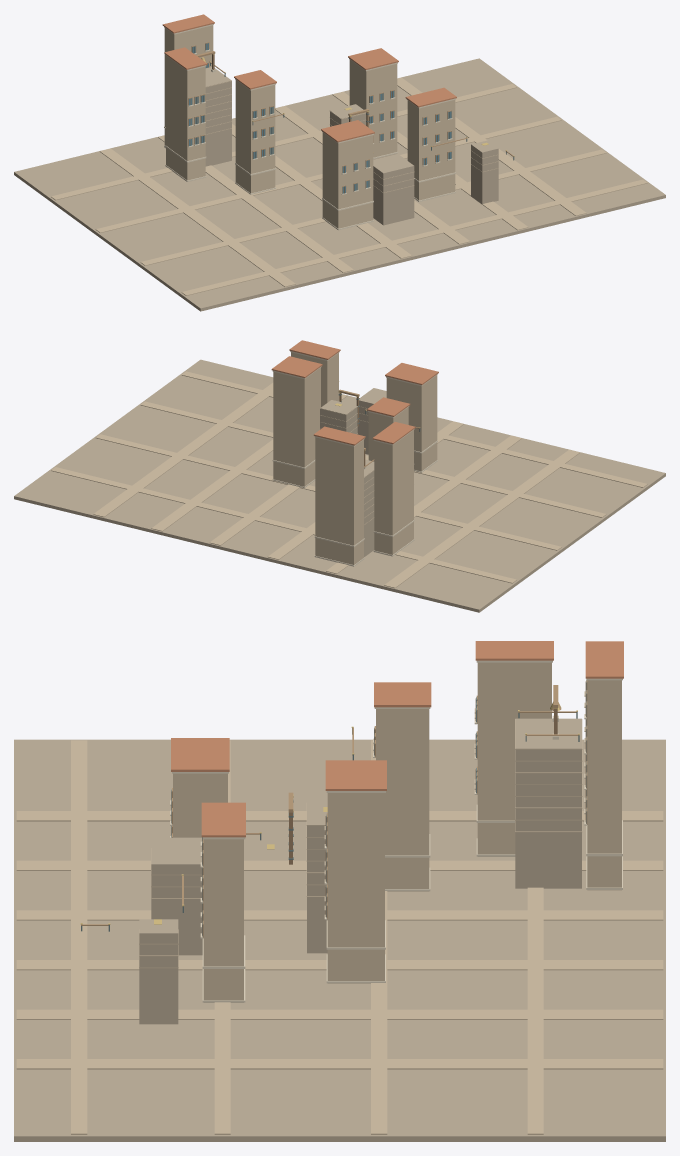
Rendered from ClockworksRoofMasonry.glb.
3 renders of one model, top to bottom at view 1: azimuth 30°, elevation 25°; view 2: azimuth 150°, elevation 25°; view 3: azimuth 270°, elevation 25°, orthographic. The views are drawn at different scales.
Parts seen in each view (by area): view 1: ClockworksRoofMasonry; view 2: ClockworksRoofMasonry; view 3: ClockworksRoofMasonry.
Part boxes in pixels (<box>): ClockworksRoofMasonry: <box>14,14,665,311</box>; ClockworksRoofMasonry: <box>14,340,665,612</box>; ClockworksRoofMasonry: <box>14,641,665,1141</box>.
Bounding box in the file's own units: 72 × 18.64 × 50.
